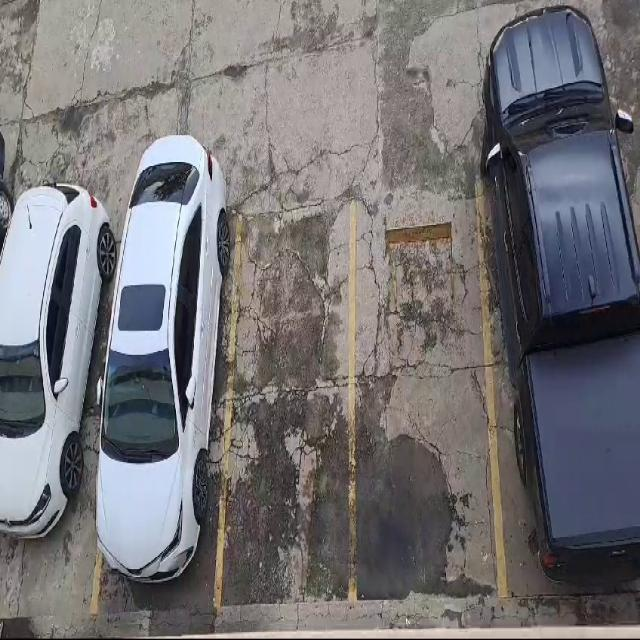empty: (352, 181, 504, 600), (217, 205, 352, 603)
notEmpty: (476, 149, 639, 594), (94, 213, 241, 611), (0, 204, 130, 609)
